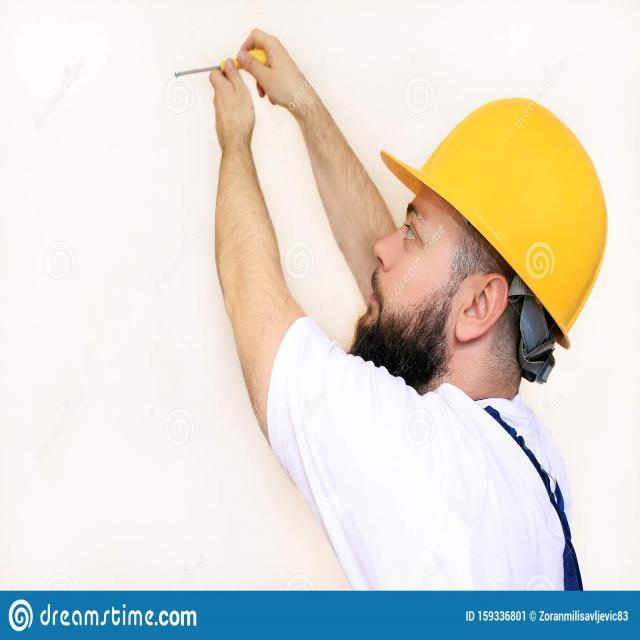screwdriver: (168, 34, 278, 91)
